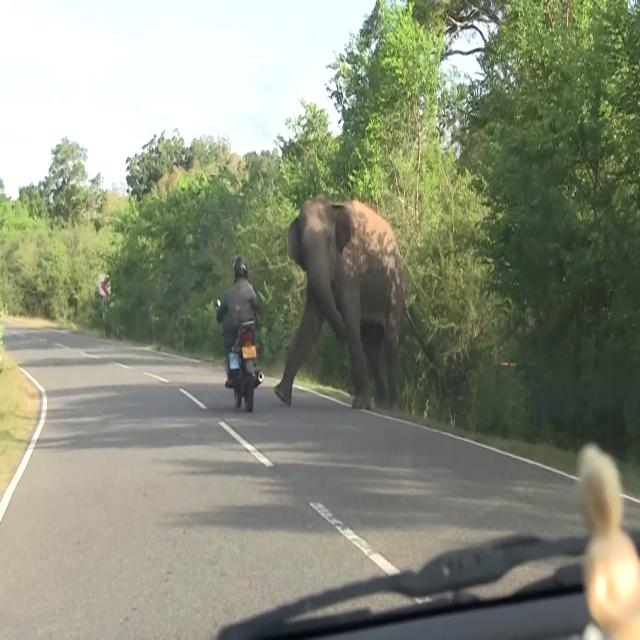Elephant: (274, 194, 405, 410)
person: (216, 255, 260, 387)
